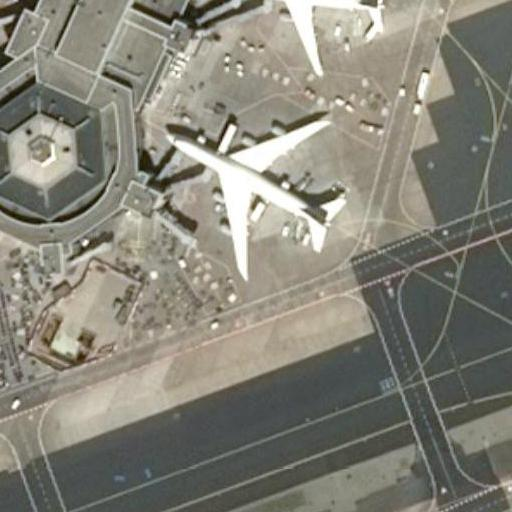Aircraft: (145, 98, 351, 275), (212, 0, 405, 82)
